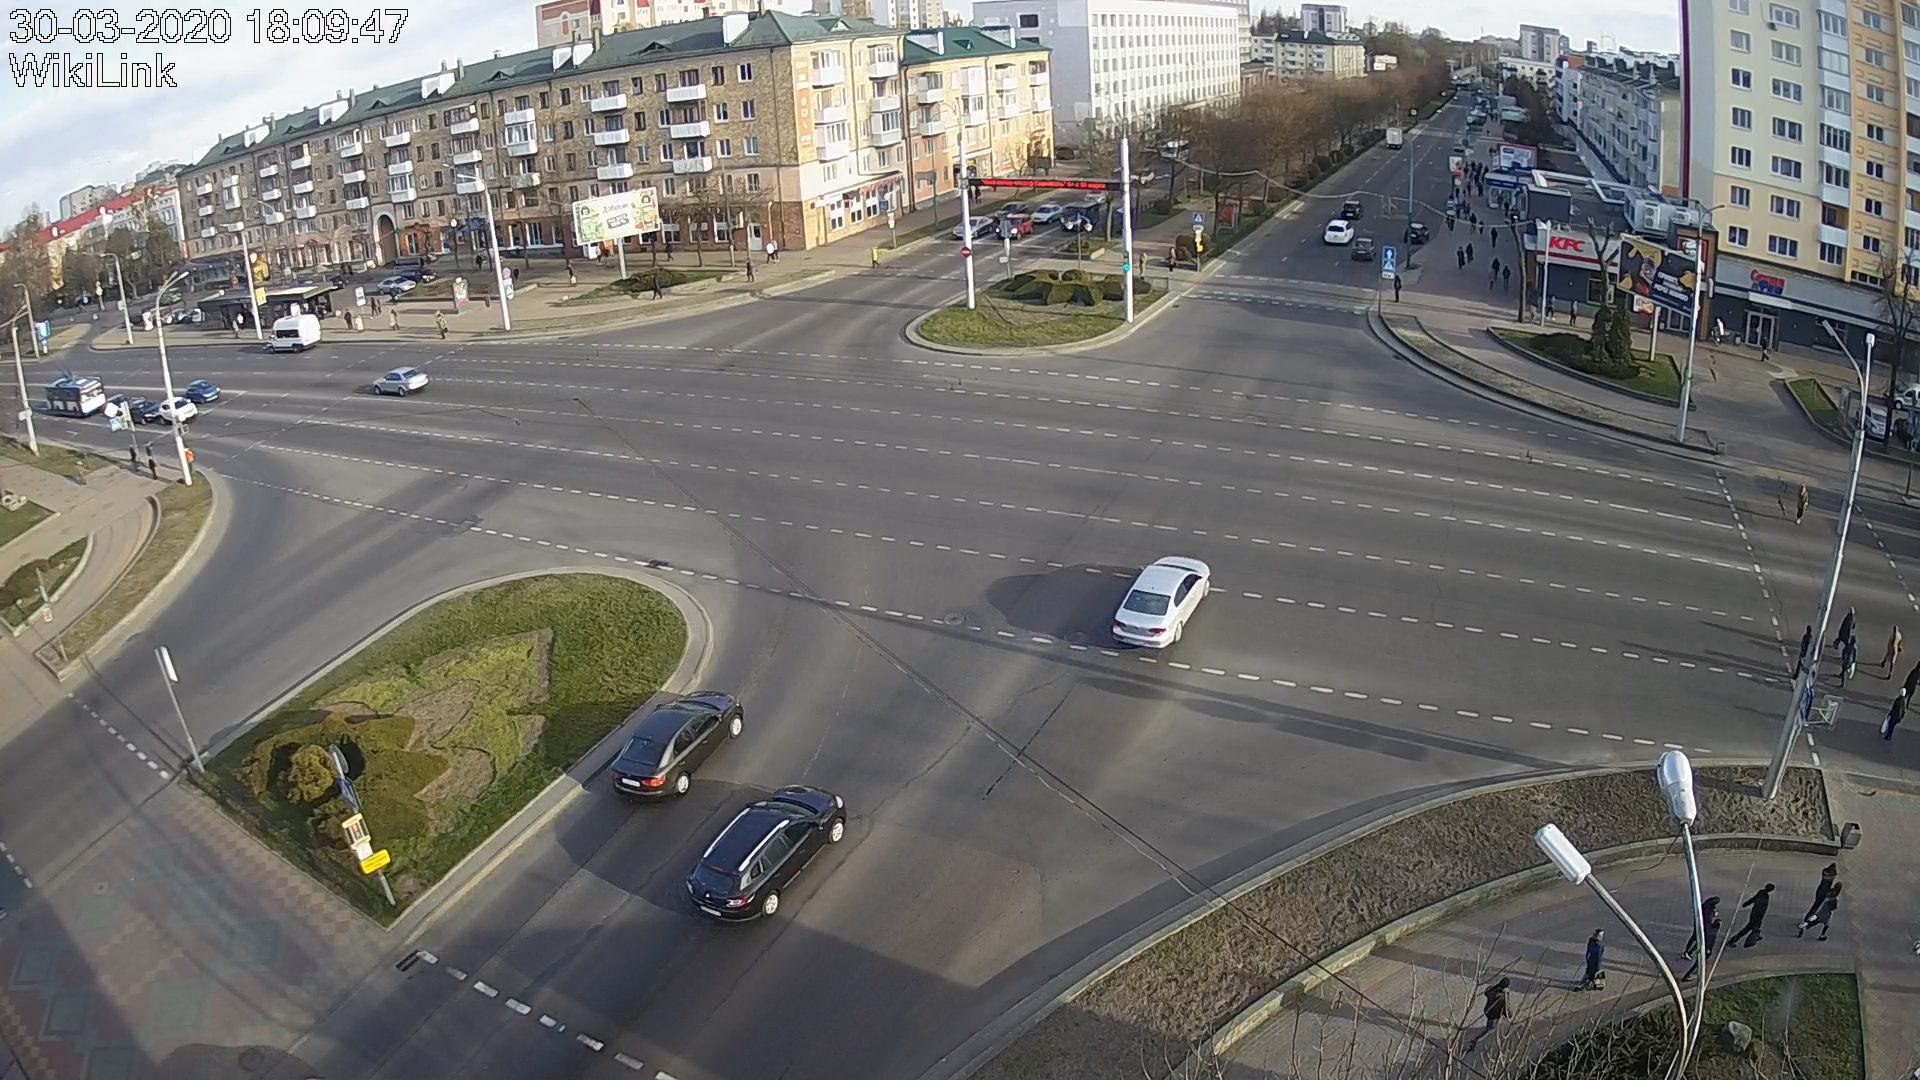bus: (45, 376, 107, 418)
car: (684, 785, 848, 924), (611, 687, 744, 802), (1112, 556, 1212, 651), (268, 313, 322, 353), (372, 365, 429, 397), (160, 397, 198, 425), (996, 214, 1034, 240), (953, 215, 994, 239), (185, 378, 222, 404), (129, 400, 162, 423), (1325, 220, 1356, 244), (1352, 237, 1375, 262)
